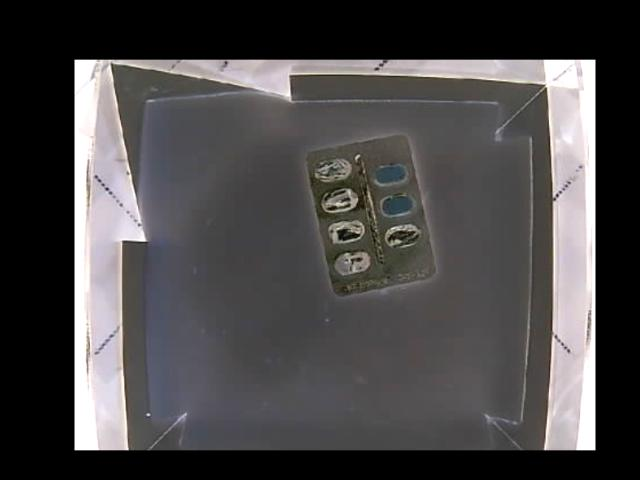Medicine: (304, 134, 431, 296)
